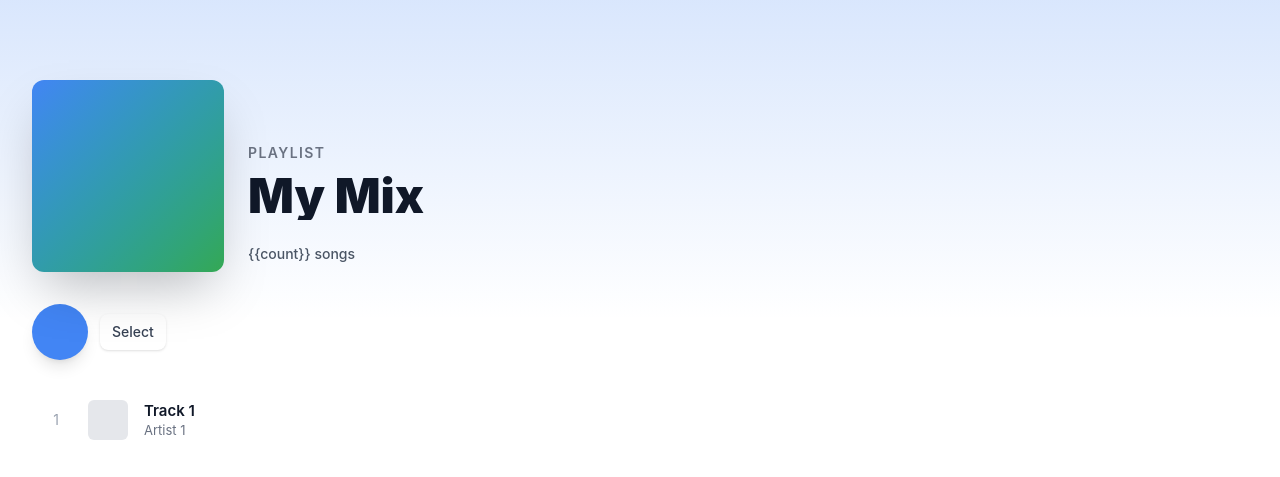
Test: PlaylistView playlist row menu + selection mode › selection toolbar shows the playlist-scoped Remove from Playlist label
The width and height of the screenshot is (1280, 477).
Expected: the heading "Track 1" is shown, top-left (144, 400), bottom-right (195, 420)
Click the button "Select". click: (133, 332)
box: top-left (100, 314), bottom-right (166, 350)
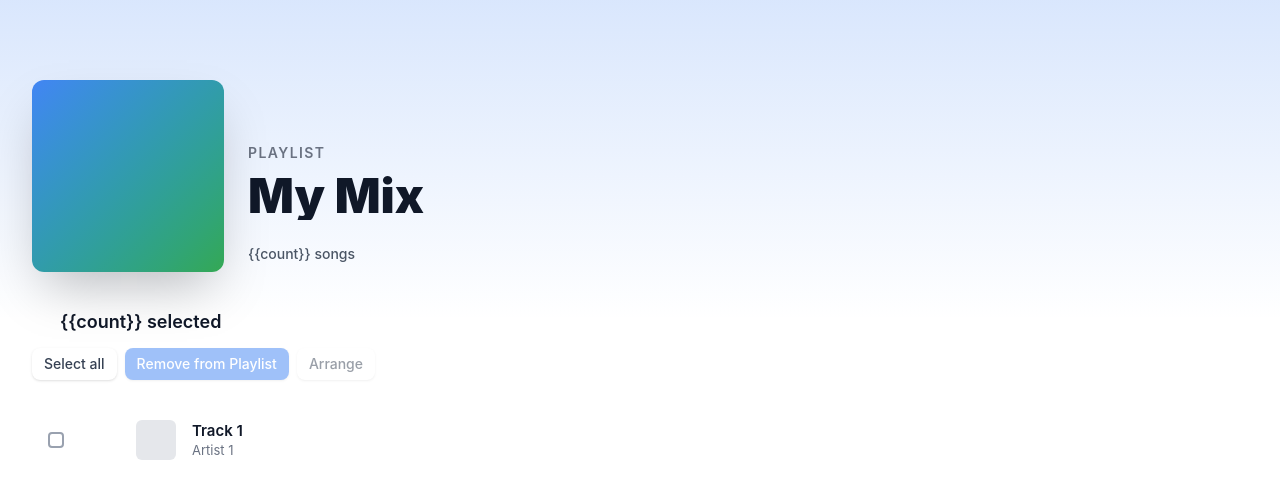
Expected: the button with test id "queue-remove-selected" reads "Remove from Playlist", top-left (125, 348), bottom-right (289, 380)
